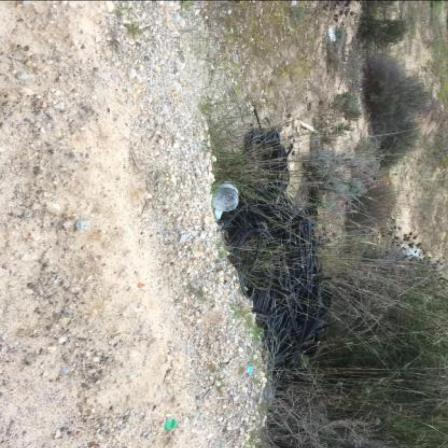Bottle: (214, 181, 241, 212)
Bottle cap: (166, 419, 178, 431), (249, 366, 254, 375)
Unlabeled litter: (215, 210, 224, 221)
